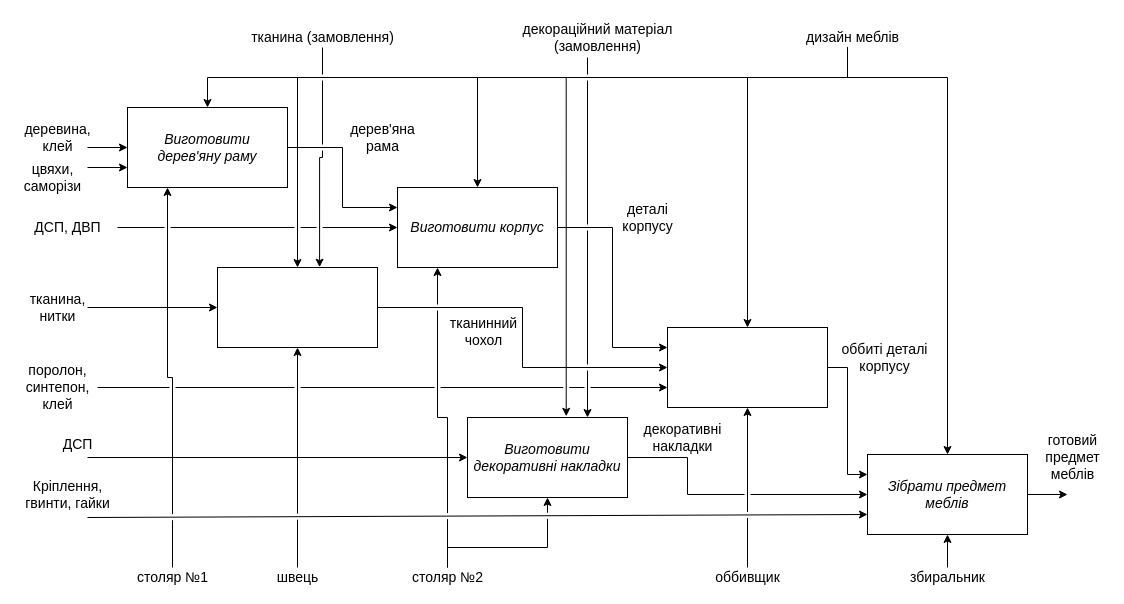
This 1124x604 diagram has some shape labels left out. Here are the shapes that lost their labels. From the top down, the centre of each, then its label:
(297,307): Виготовити тканинний чохол
(747,367): Оббити корпус
